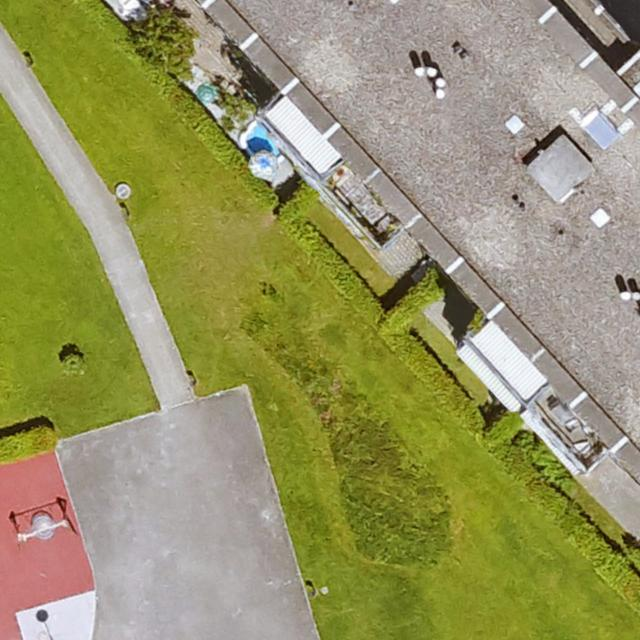tree: (126, 3, 195, 76)
